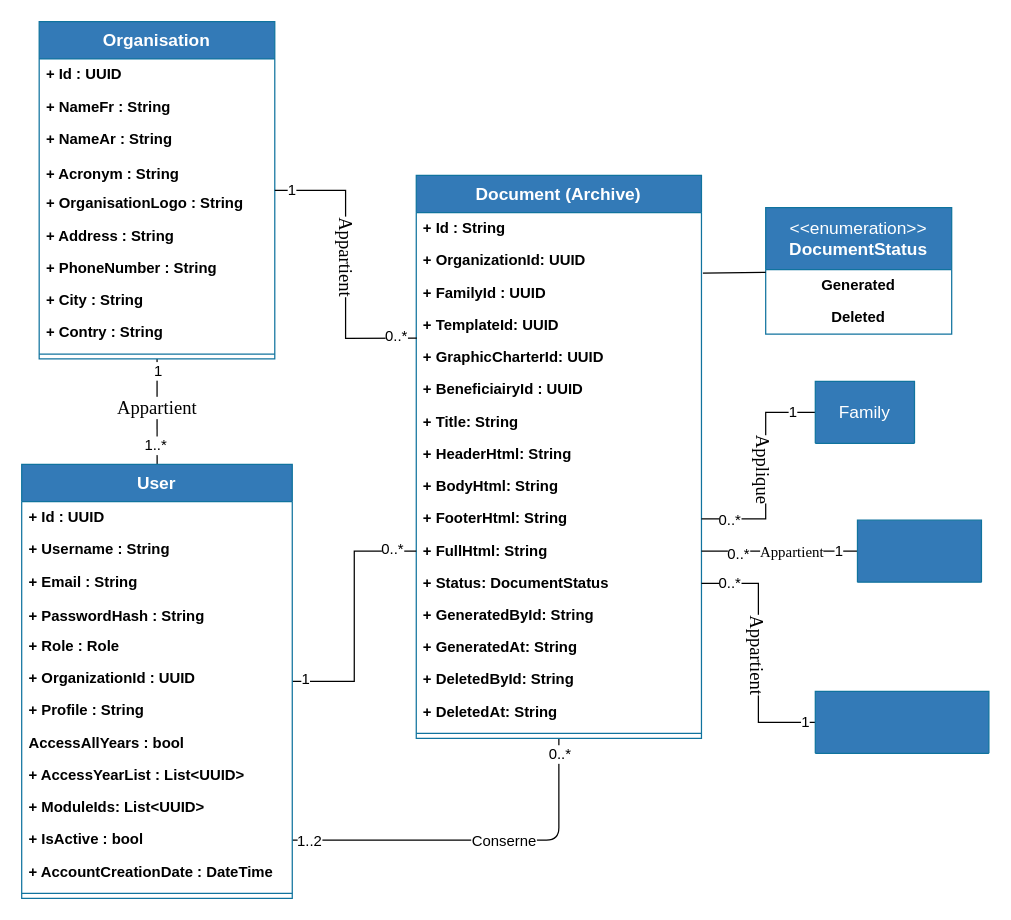
Image size: 1011x920. Some labels were removed from this diagram. The centre of each missing label's shape, as x and y in pixels:
"GraphicCharter" goes at point 901,721.
"Template" goes at point 918,550.
